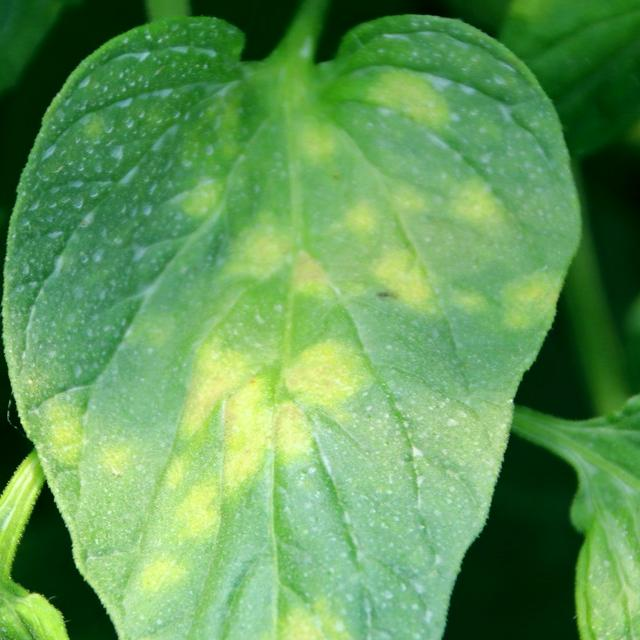Tomato mold leaf: (17, 0, 587, 640)
